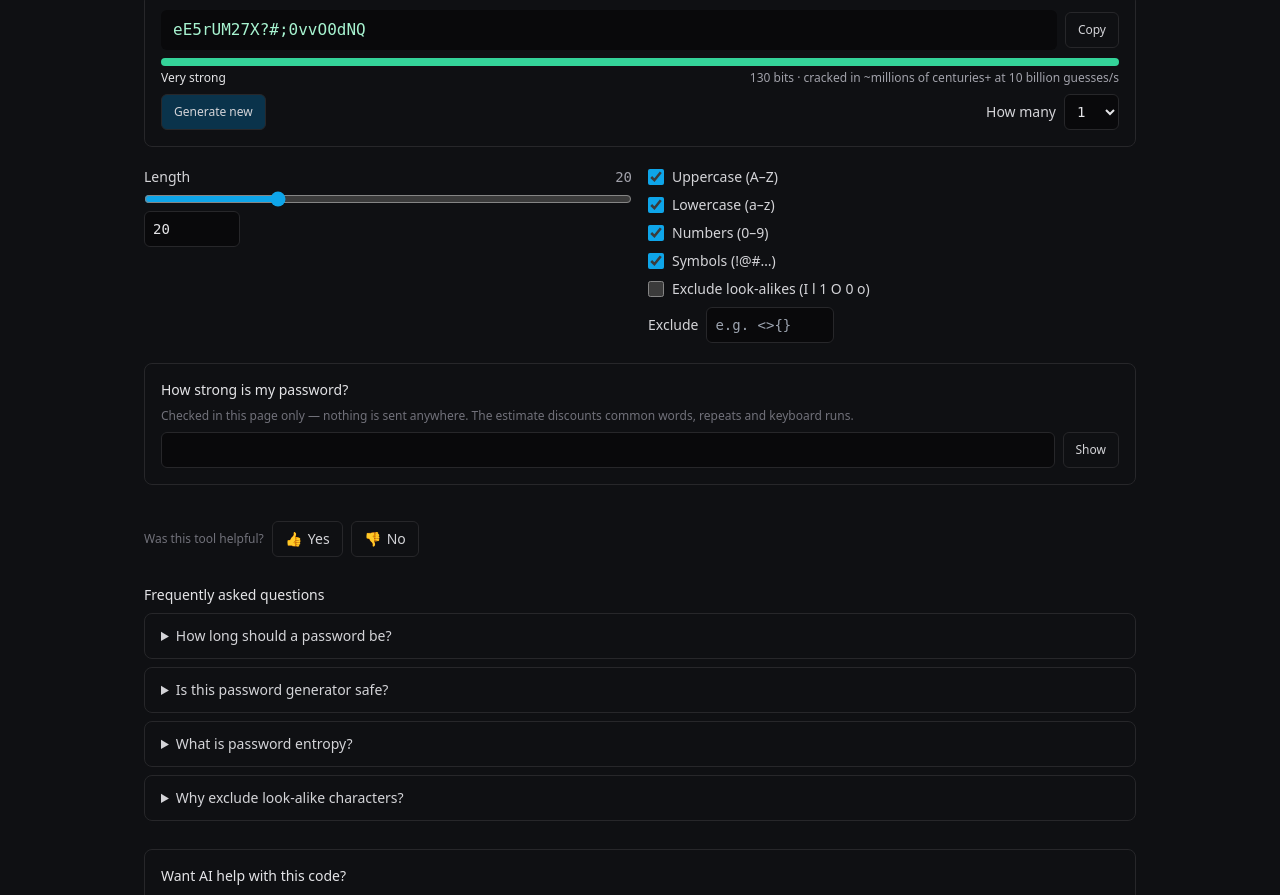
Test: PasswordPage › checks a typed password
(page scrolled)
Step 1. Type "password" into the password field with test id "password-check" → (608, 450), box [161,432,1054,468]
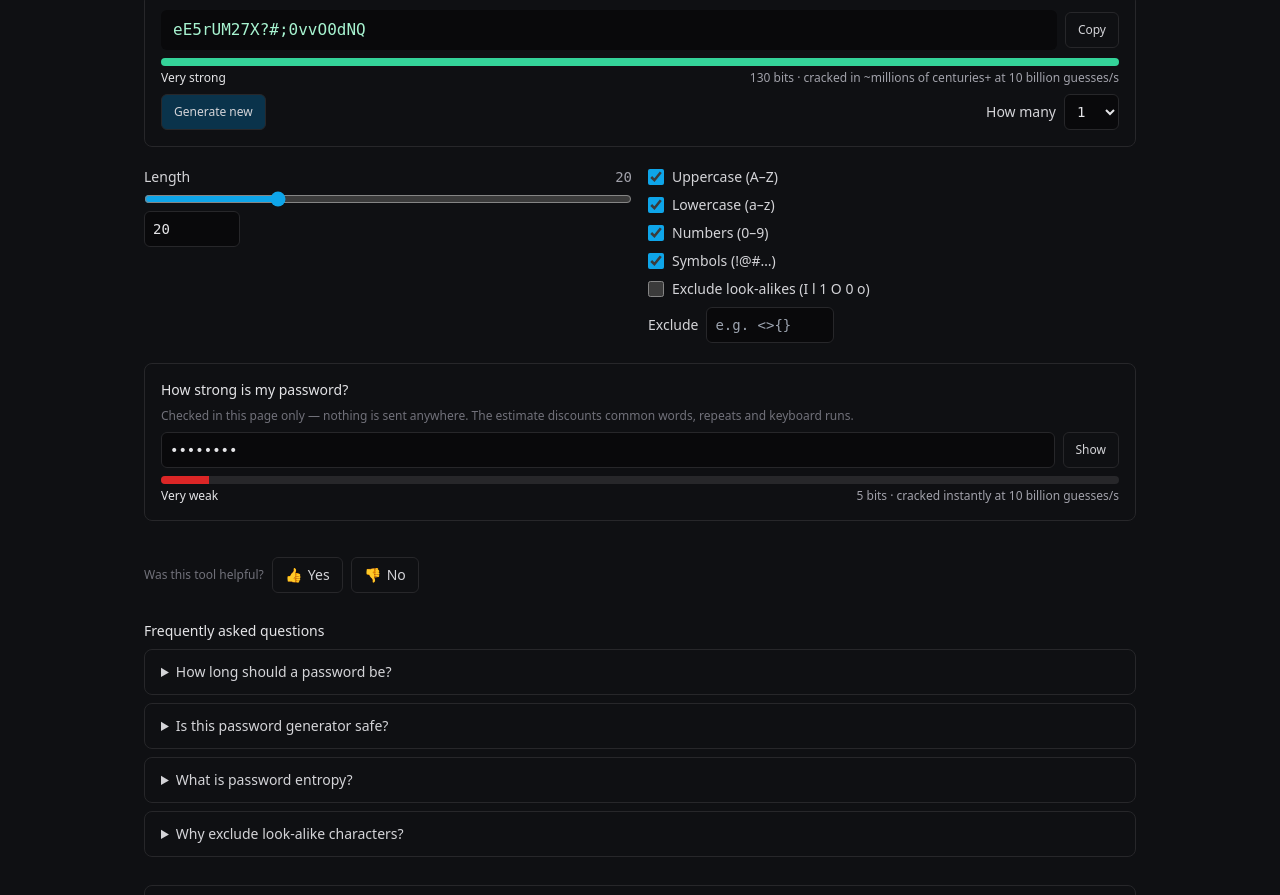
Now the text with test id "password-check-strength-label" reads "Very weak", box [161,487,218,504]
